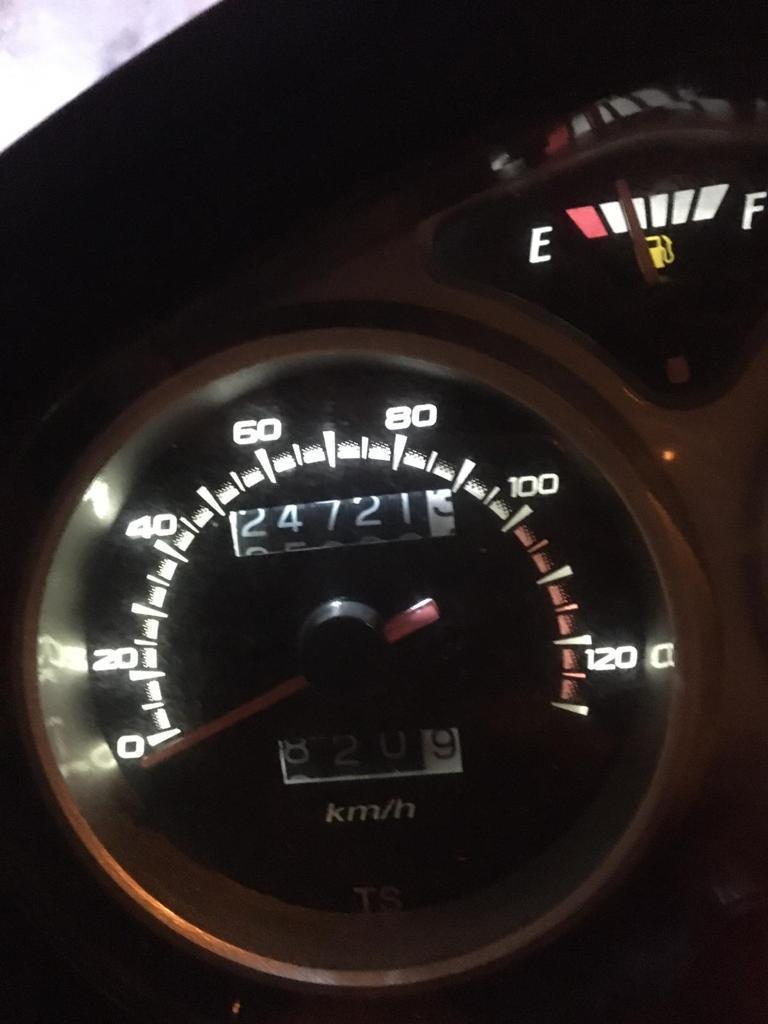1: (397, 491, 412, 525)
2: (237, 507, 268, 538), (352, 494, 382, 526)
3: (431, 484, 455, 516)
4: (276, 503, 303, 533)
7: (314, 497, 342, 531)
odometer: (226, 486, 458, 559)
